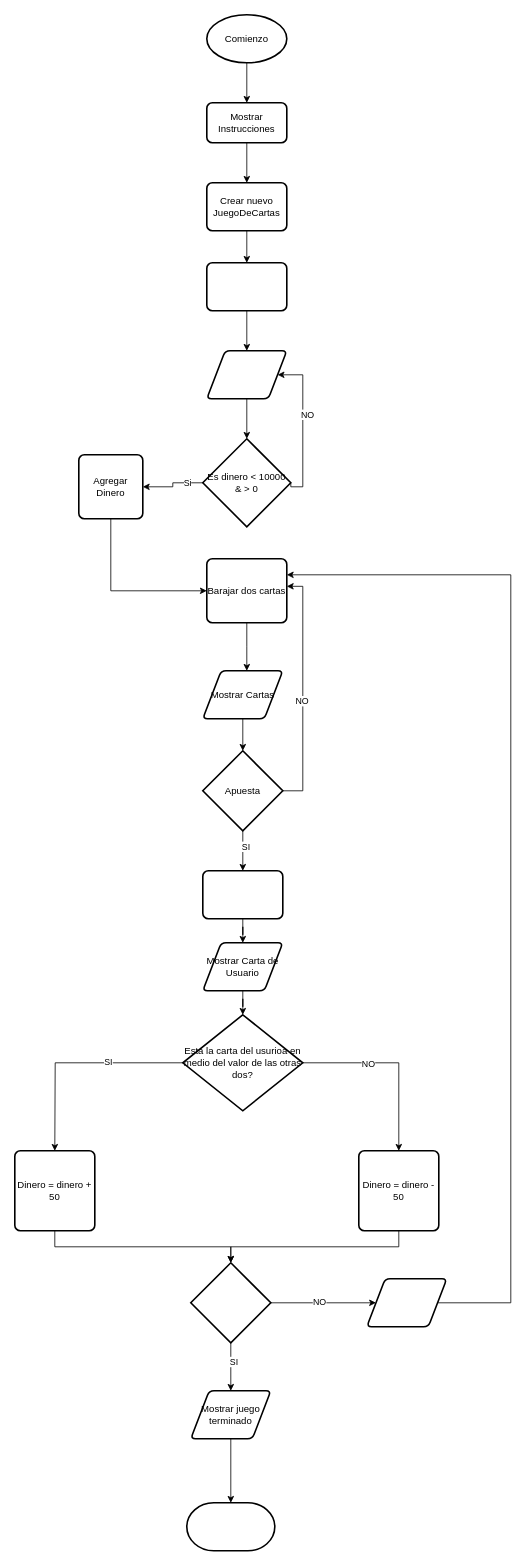
This 531x1565 diagram has some shape labels left out. The shapes that lost their labels are listed below. From the top down, each one's centre as x and y in pixels, then its label:
(x=246, y=286): Inicializar parametros: diner,o, casino, lector dibujante
(x=246, y=374): Leer dinero
(x=242, y=894): Barajar carta de Usuario
(x=230, y=1302): If Dinero < 0
(x=406, y=1302): Mostrar Dinero
(x=230, y=1526): Final
